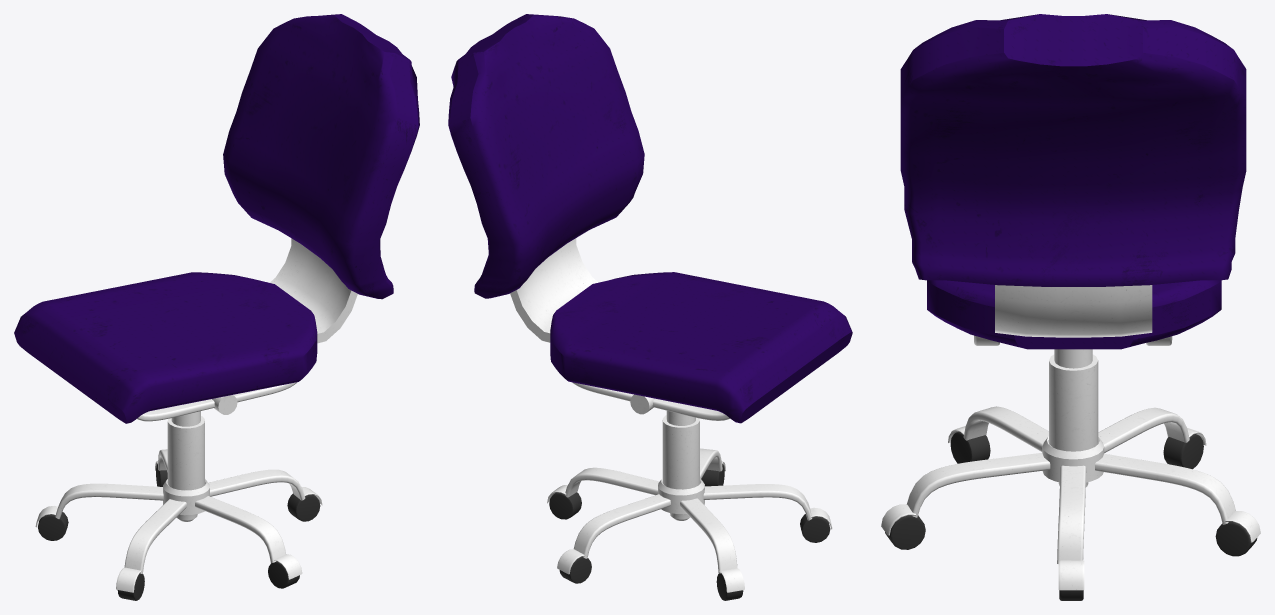
The model's file is round_chair.fbx.
3 views of the same model, side by side, from view 1: azimuth 30°, elevation 25°; view 2: azimuth 150°, elevation 25°; view 3: azimuth 270°, elevation 25° (orthographic). The views are drawn at different scales.
Parts seen in each view (by area): view 1: polySurface33, polySurface45; view 2: polySurface33, polySurface45; view 3: polySurface45, polySurface33.
Boxes of the visible parts, left/top/right/bottom form: polySurface33: left=14, top=238, right=357, bottom=600; polySurface45: left=223, top=14, right=419, bottom=299; polySurface33: left=510, top=238, right=852, bottom=600; polySurface45: left=448, top=14, right=644, bottom=298; polySurface45: left=900, top=14, right=1246, bottom=286; polySurface33: left=881, top=280, right=1260, bottom=600.
Size of the model in its own units: 99.4 by 139 by 77.25.
1 material, 1 textured.
